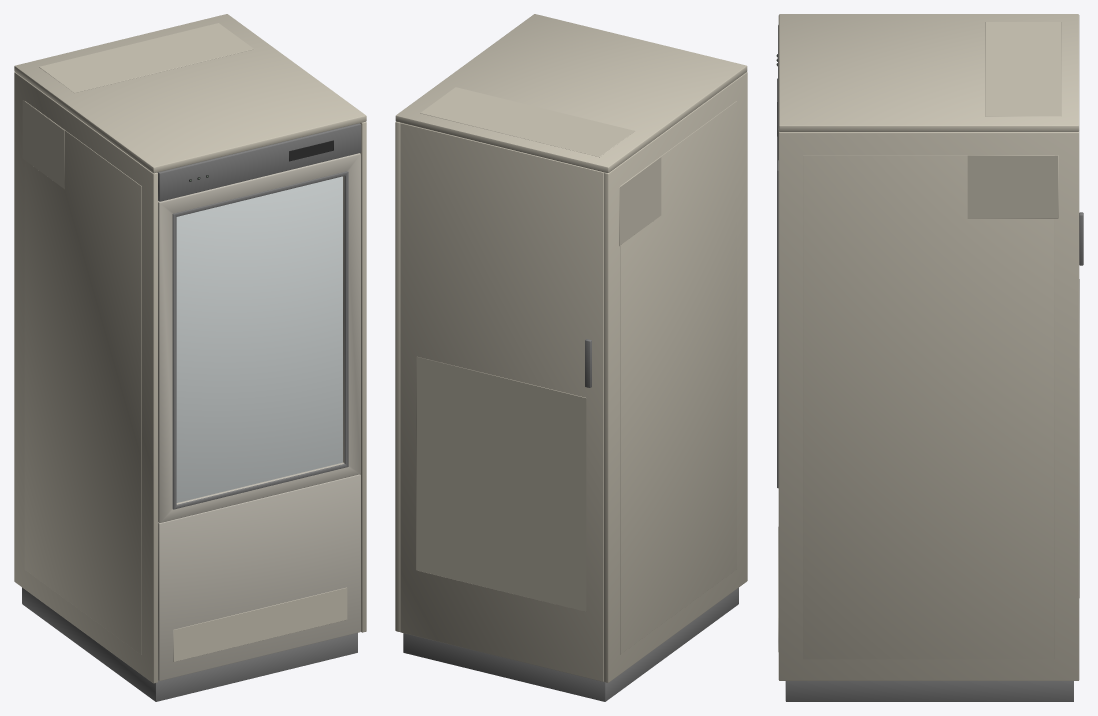
Rendered from Kit_SystemCabinet_Disk_Off.fbx.
3 renders of one model, left to right at view 1: azimuth 30°, elevation 25°; view 2: azimuth 150°, elevation 25°; view 3: azimuth 270°, elevation 25°, orthographic. The views are drawn at different scales.
Parts seen in each view (by area): view 1: Kit_SystemCabinet_Disk_LOD0; view 2: Kit_SystemCabinet_Disk_LOD0; view 3: Kit_SystemCabinet_Disk_LOD0.
Boxes of the visible parts, x1,y1,x2,y2 form: Kit_SystemCabinet_Disk_LOD0: [14, 14, 366, 701]; Kit_SystemCabinet_Disk_LOD0: [395, 14, 747, 701]; Kit_SystemCabinet_Disk_LOD0: [776, 14, 1083, 701].
Size of what is drawn, in the model's own units: 0.7671 by 1.83 by 0.8787.
